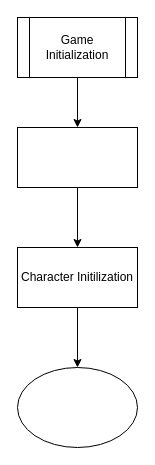
This 155x465 diagram has some shape labels left out. The shapes that lost their labels are listed below. From the top down, each one's box as (x1, y1, x2, y2) in pixels, then its label:
(16, 126, 138, 188): Tiles Inilization
(16, 366, 138, 448): RETURN
